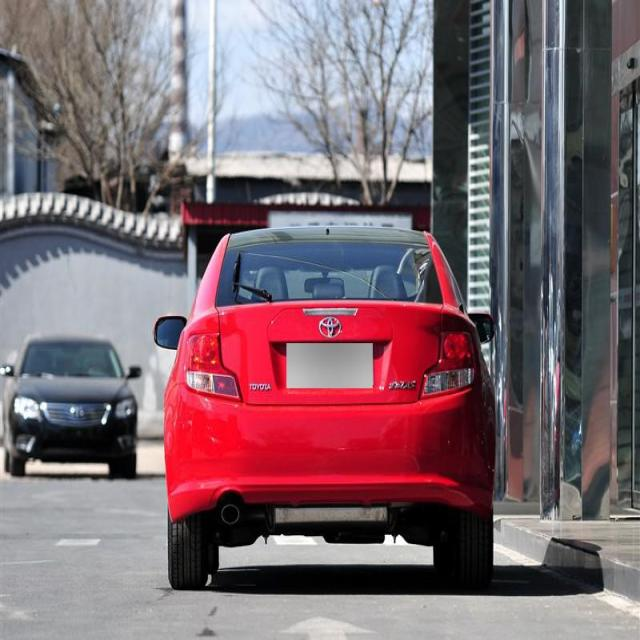back_glass: (215, 226, 445, 317)
back_left_side_light: (186, 330, 244, 405)
back_right_side_light: (418, 325, 480, 404)
front_left_side_mirror: (152, 313, 188, 351)
front_right_side_mirror: (465, 310, 495, 346)
rear_bumper: (162, 378, 498, 524)
wheel: (447, 509, 494, 592), (166, 510, 212, 592)
